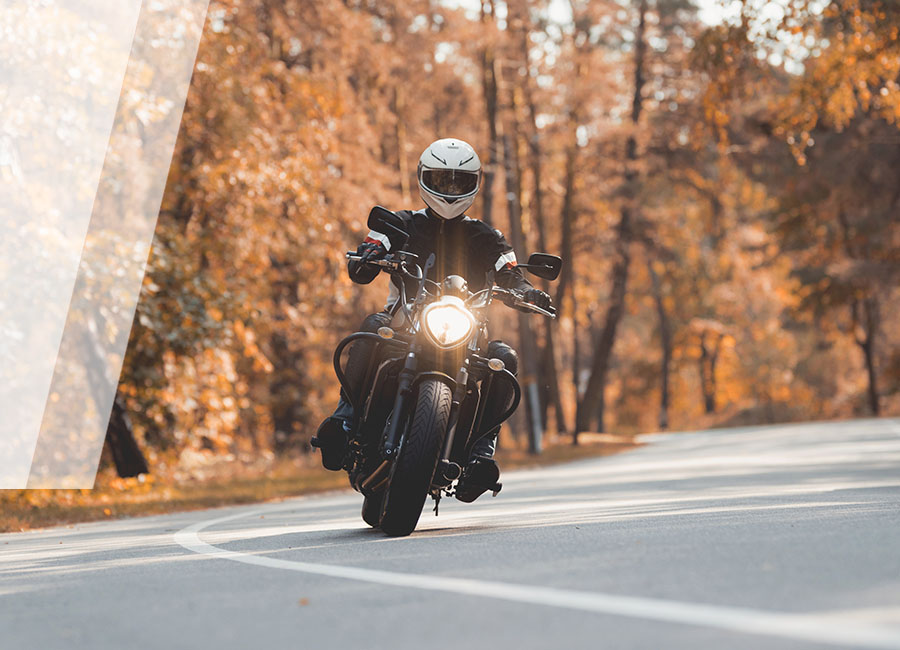Motorcycle: (322, 213, 563, 548)
